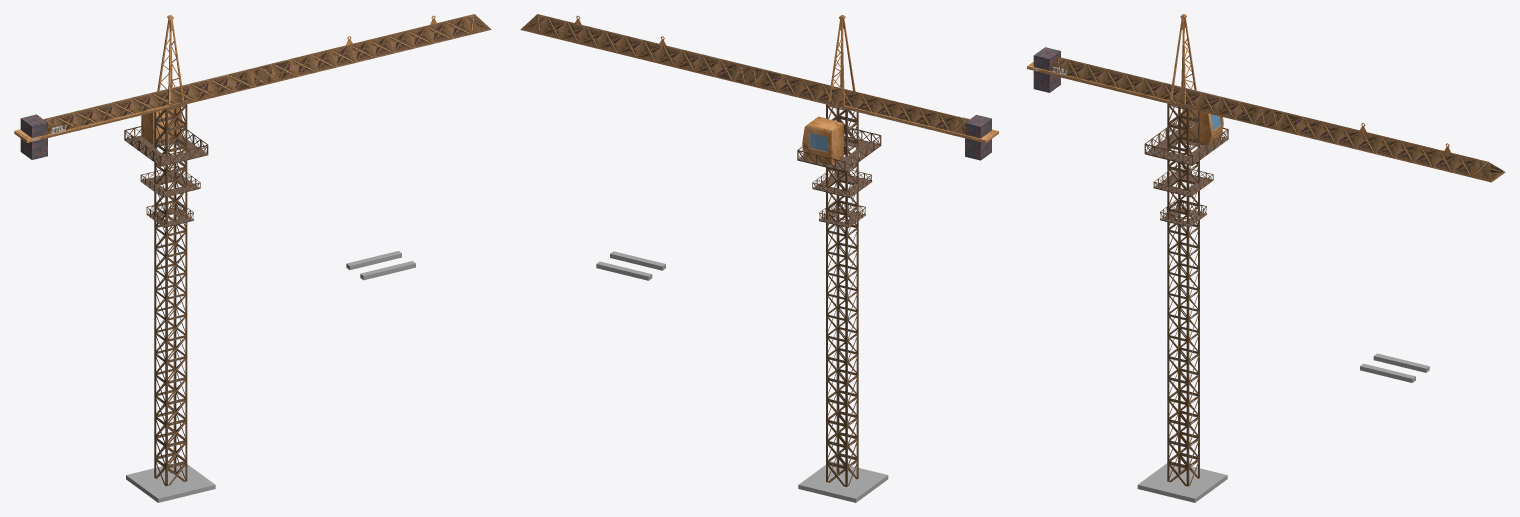
The model's file is Mec_Tadiao.FBX.
3 views of the same model, side by side, from view 1: azimuth 30°, elevation 25°; view 2: azimuth 150°, elevation 25°; view 3: azimuth 330°, elevation 25° (orthographic).
Visible parts, largest first — view 1: Box002, Box001, Rectangle044, Plane009, Rectangle027, Box004, Rectangle026; view 2: Box002, Box001, Rectangle044, Box004, Plane009, Rectangle027, Rectangle026; view 3: Box002, Box001, Rectangle044, Plane009, Box004, Rectangle027, Rectangle026.
Part boxes in pixels (x1,y1,x2,y2): Box002: (20, 14, 491, 159); Box001: (154, 104, 187, 486); Rectangle044: (126, 461, 215, 502); Plane009: (124, 126, 208, 166); Rectangle027: (126, 135, 206, 165); Box004: (141, 107, 182, 144); Rectangle026: (140, 172, 199, 197); Box002: (520, 14, 991, 160); Box001: (826, 104, 858, 486); Rectangle044: (798, 461, 888, 502); Box004: (802, 116, 843, 165); Plane009: (797, 128, 881, 171); Rectangle027: (797, 136, 879, 171); Rectangle026: (813, 172, 872, 197); Box002: (1033, 39, 1505, 182); Box001: (1167, 103, 1199, 486); Rectangle044: (1137, 461, 1227, 502); Plane009: (1144, 120, 1228, 165); Box004: (1182, 108, 1223, 145); Rectangle027: (1146, 130, 1227, 164); Rectangle026: (1153, 171, 1212, 197).
Size of the model in its own units: 1344 by 1295 by 193.
Materials: 8 (5 with a texture image).
